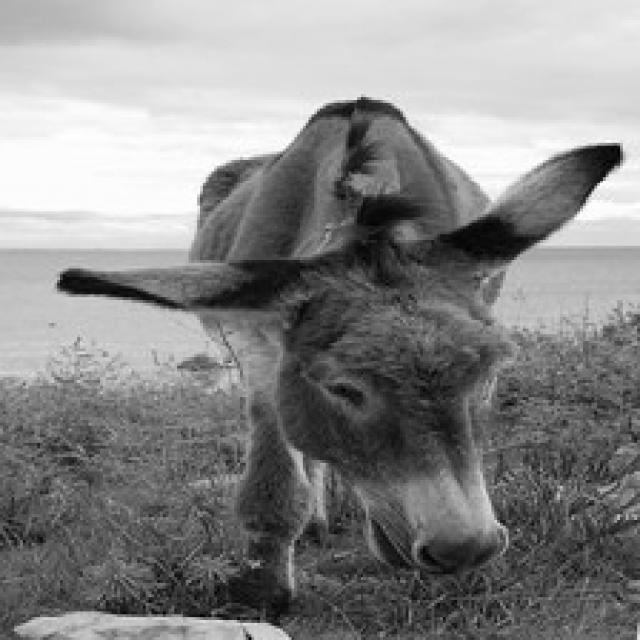Donkey: (54, 91, 623, 620)
